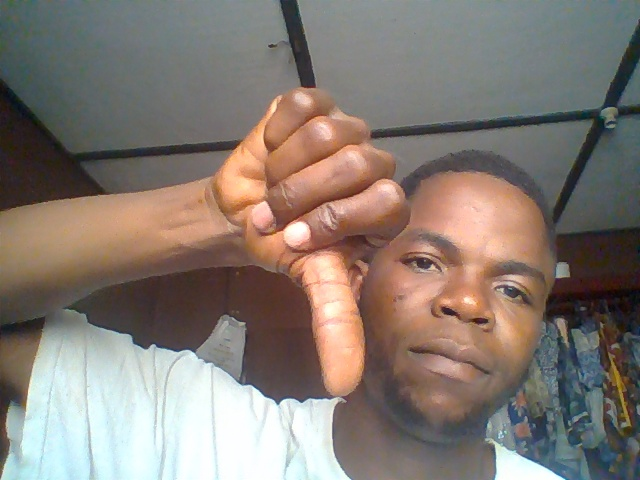Thumbdown: (213, 83, 418, 402)
